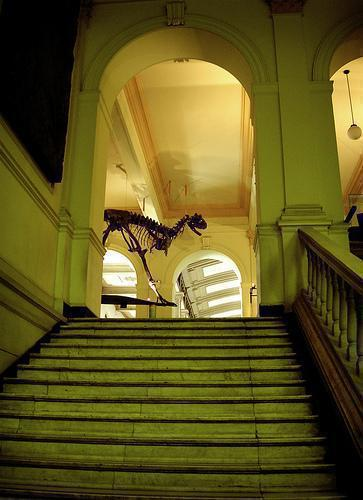Escaleras: (5, 294, 296, 496)
